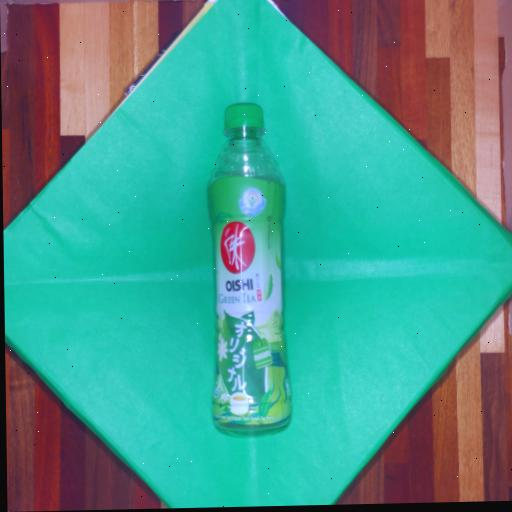bottle: (196, 84, 311, 453)
